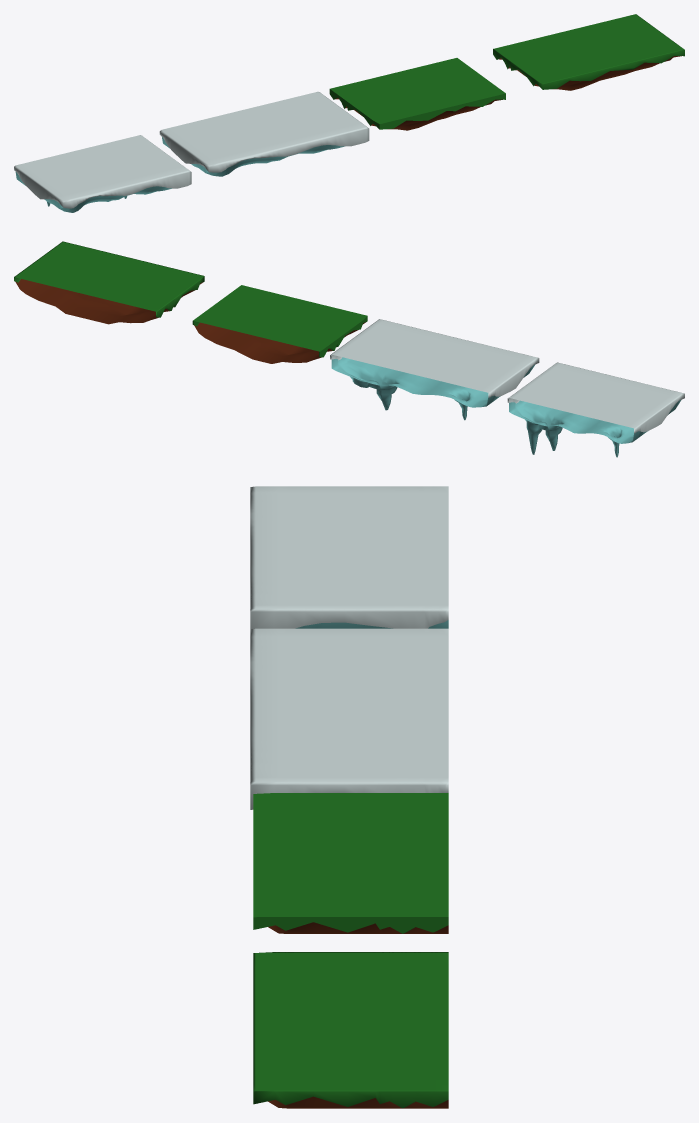
The model's file is Platformpjes.fbx.
3 views of the same model, one above another, from view 1: azimuth 30°, elevation 25°; view 2: azimuth 150°, elevation 25°; view 3: azimuth 270°, elevation 25° (orthographic). The views are drawn at different scales.
Parts seen in each view (by area): view 1: pCube4, pCube2, pCube3, pCube1; view 2: pCube4, pCube2, pCube3, pCube1; view 3: pCube4, pCube2, pCube3, pCube1.
Part boxes in pixels (<box>): pCube4: <box>159,91,369,176</box>; pCube2: <box>493,14,684,90</box>; pCube3: <box>14,135,191,212</box>; pCube1: <box>329,58,505,130</box>; pCube4: <box>330,319,539,420</box>; pCube2: <box>14,241,204,324</box>; pCube3: <box>507,362,684,457</box>; pCube1: <box>192,285,367,363</box>; pCube4: <box>250,628,448,809</box>; pCube2: <box>253,952,448,1108</box>; pCube3: <box>250,486,448,628</box>; pCube1: <box>253,793,448,933</box>.
Size of the model in its own units: 14.91 by 1.27 by 2.06.
